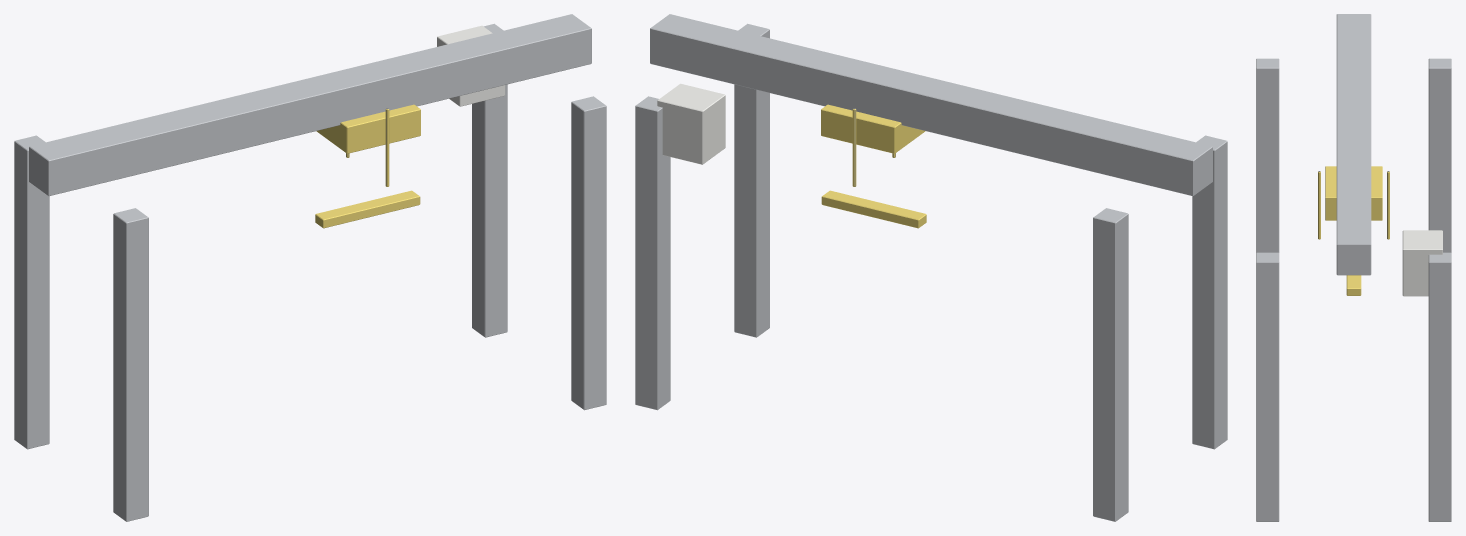
The model's file is 工业_龙门吊_01.fbx.
3 renders of one model, left to right at view 1: azimuth 30°, elevation 25°; view 2: azimuth 150°, elevation 25°; view 3: azimuth 270°, elevation 25°, orthographic. The views are drawn at different scales.
Visible parts, largest first — view 1: 支腿, 主梁, 小车, 吊具, 驾驶室.007; view 2: 支腿, 主梁, 驾驶室.007, 小车, 吊具; view 3: 支腿, 主梁, 驾驶室.007, 小车, 吊具.
Part boxes in pixels (x1,y1,x2,y2): 支腿: (14, 23, 606, 521); 主梁: (29, 14, 591, 196); 小车: (316, 104, 420, 153); 吊具: (315, 108, 420, 228); 驾驶室.007: (437, 25, 505, 106); 支腿: (635, 23, 1227, 521); 主梁: (650, 14, 1212, 196); 驾驶室.007: (657, 83, 725, 164); 小车: (821, 104, 925, 153); 吊具: (821, 108, 926, 228); 支腿: (1256, 58, 1451, 521); 主梁: (1336, 14, 1371, 275); 驾驶室.007: (1402, 230, 1442, 296); 小车: (1325, 166, 1382, 220); 吊具: (1318, 171, 1389, 295).
Size of the model in its own units: 1900 by 1120 by 680.
